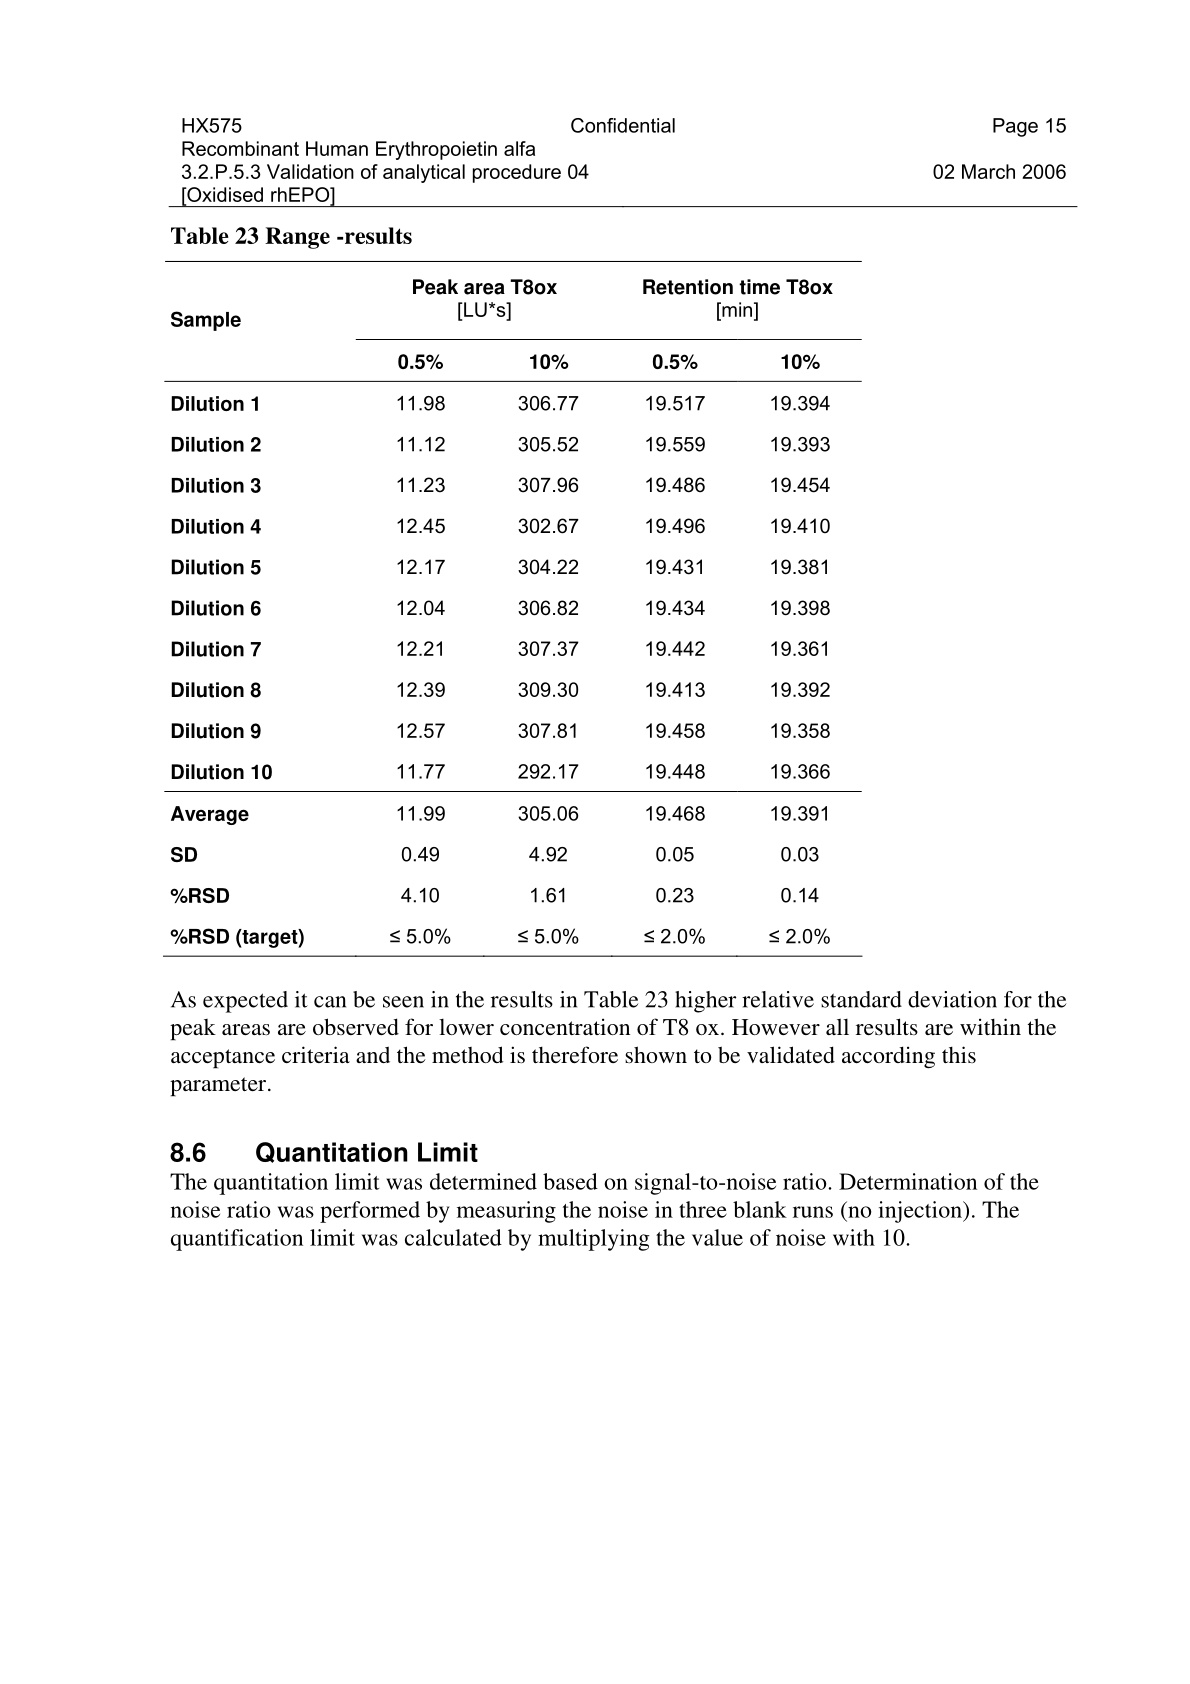partial_lined_merged_cells: (165, 257, 862, 957)
